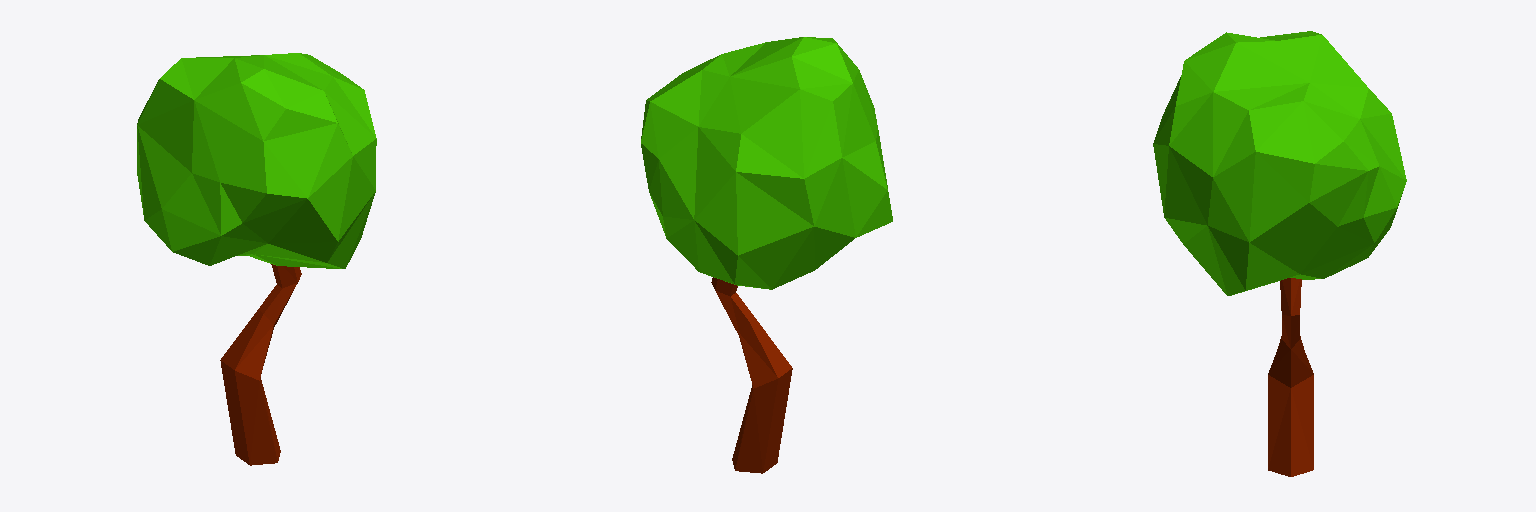
Rendered from low_poly_tree.obj.
3 renders of one model, left to right at view 1: azimuth 30°, elevation 25°; view 2: azimuth 150°, elevation 25°; view 3: azimuth 270°, elevation 25°, orthographic.
Parts seen in each view (by area): view 1: lowpolytree2; view 2: lowpolytree2; view 3: lowpolytree2.
Part boxes in pixels (x1,y1,x2,y2): lowpolytree2: (137,53,376,465); lowpolytree2: (641,37,892,473); lowpolytree2: (1153,31,1406,476).
Size of the model in its own units: 4.82 by 8.89 by 4.95.